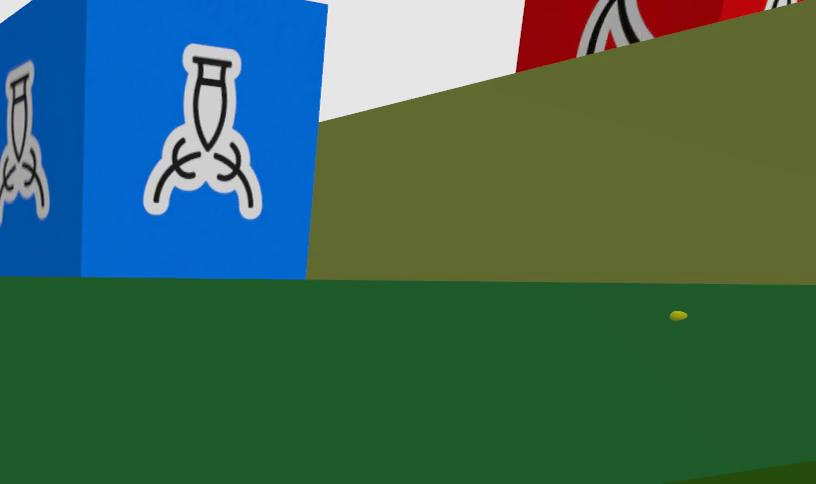KFS_REAL: (0, 0, 327, 278), (144, 44, 263, 219), (0, 61, 49, 226)
